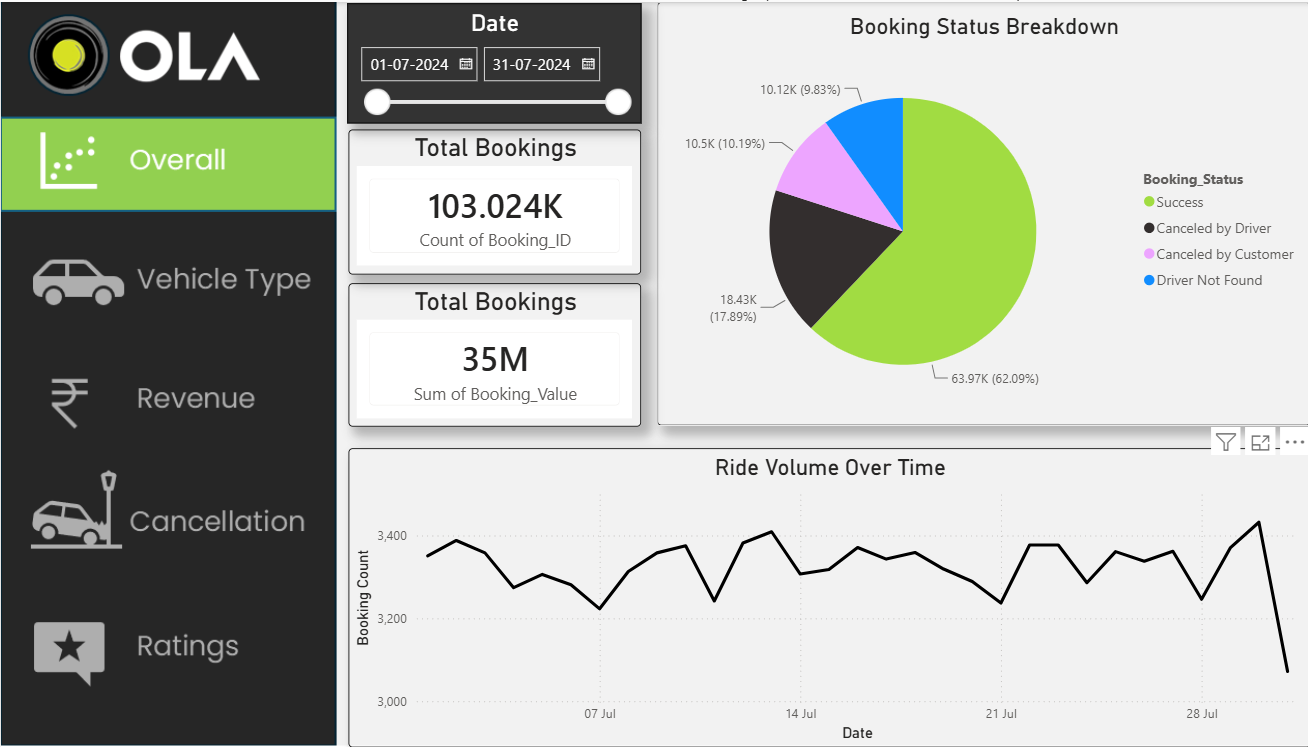

Layout of this report page (visuals, bound fields, positions):
{"tool":"powerbi","page":{"name":"Overall","canvas":[1280,720],"ordinal":0},"visuals":[{"type":"actionButton","box":[0,220,324.4,92.2],"z":0},{"type":"actionButton","box":[0,338.9,324.4,92.2],"z":1000},{"type":"actionButton","box":[0,447.8,324.4,92.2],"z":2000},{"type":"actionButton","box":[0,574.4,324.4,92.2],"z":3000},{"type":"lineChart","title":"Ride Volume Over Time","fields":{"Y":["CountNonNull(July.Booking_ID)"],"Category":["July.Date"]},"box":[335,431.2,928.8,288.8],"z":4000},{"type":"pieChart","title":"Booking Status Breakdown","fields":{"Category":["July.Booking_Status"],"Y":["CountNonNull(July.Booking_ID)"]},"box":[633.8,0,630,408.8],"z":5000},{"type":"slicer","title":"Date","fields":{"Values":["July.Date"]},"box":[333.8,1,283.8,116.2],"z":6000},{"type":"cardVisual","title":"Total Bookings","fields":{"Data":["Count(July.Booking_ID)"]},"box":[335,123.5,282.5,140],"z":7000},{"type":"cardVisual","title":"Total Bookings","fields":{"Data":["Sum(July.Booking_Value)"]},"box":[335,271,282.5,138.8],"z":8000}]}

Visuals, with their boxes in screenshot pixels (x1, y1, x2, y2), scaled from the page's 1280x720 canvas onto the 1308x747 screenshot:
actionButton: x1=0, y1=228, x2=331, y2=324
actionButton: x1=0, y1=352, x2=331, y2=447
actionButton: x1=0, y1=465, x2=331, y2=560
actionButton: x1=0, y1=596, x2=331, y2=692
"Ride Volume Over Time" lineChart: x1=342, y1=447, x2=1291, y2=746
"Booking Status Breakdown" pieChart: x1=648, y1=0, x2=1291, y2=424
"Date" slicer: x1=341, y1=1, x2=631, y2=122
"Total Bookings" cardVisual: x1=342, y1=128, x2=631, y2=273
"Total Bookings" cardVisual: x1=342, y1=281, x2=631, y2=425
